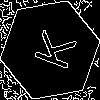K: (25, 25, 77, 72)
